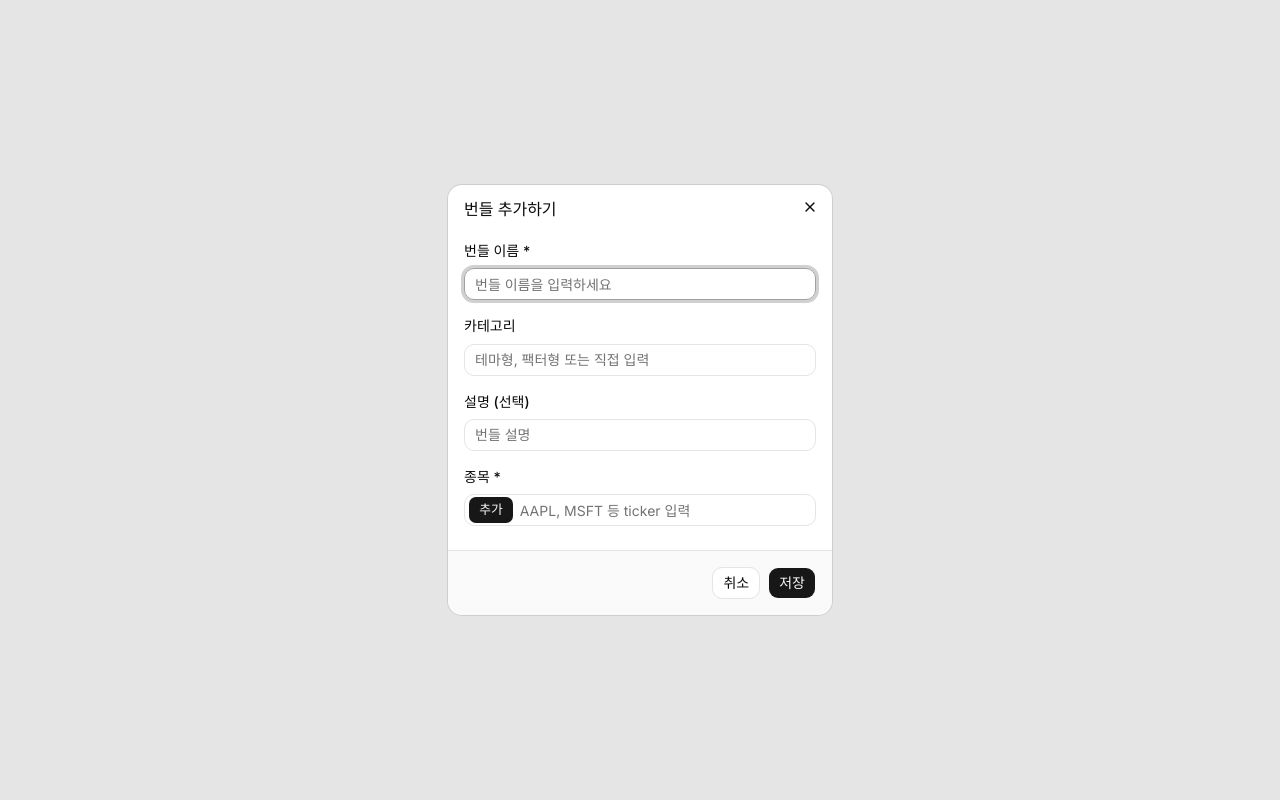
Test: CreateBundleDialog — 유효성 검사 › 중복 ticker 추가 시 안내 메시지가 표시되고 목록이 변경되지 않는다
The image size is (1280, 800).
Type "NVDA" into the field with placeholder "AAPL, MSFT 등 ticker 입력" at (664, 510), box [514, 494, 815, 526]
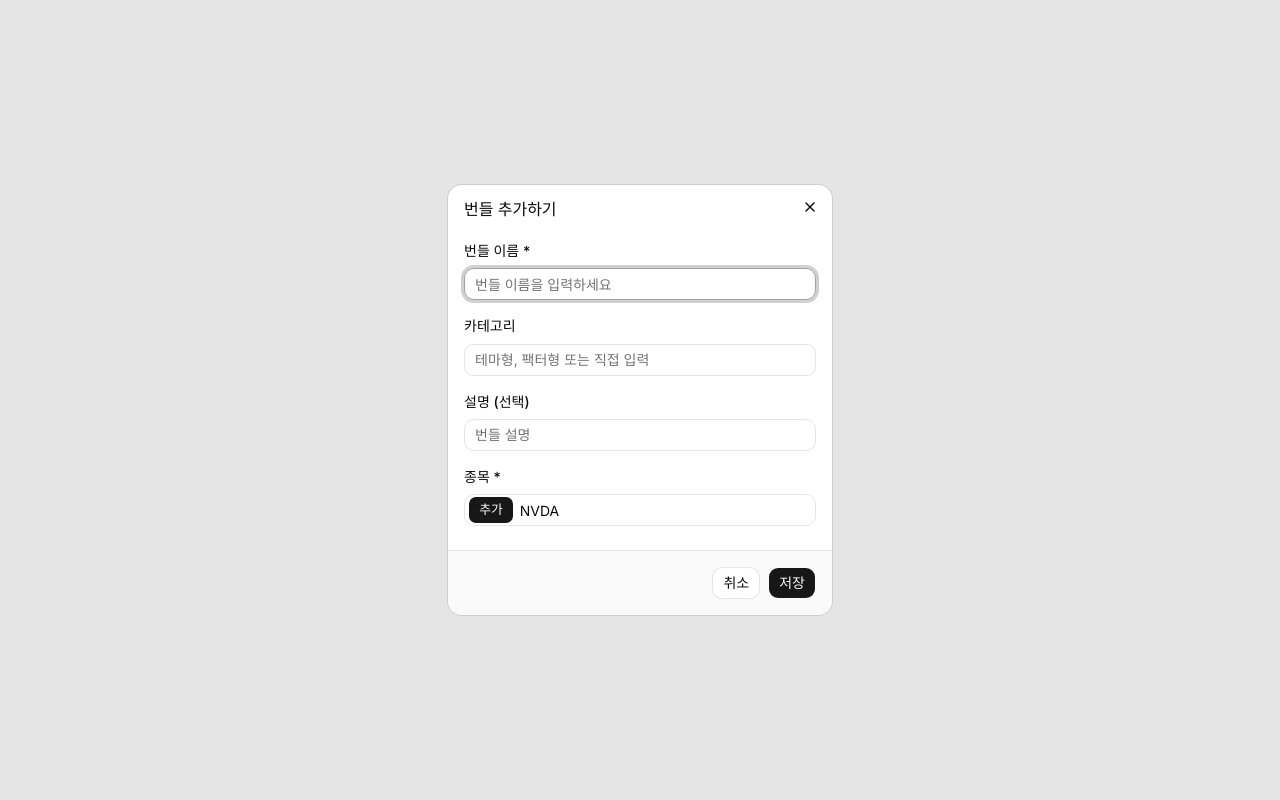
Click the button "추가" at (491, 510), box [468, 496, 514, 524]
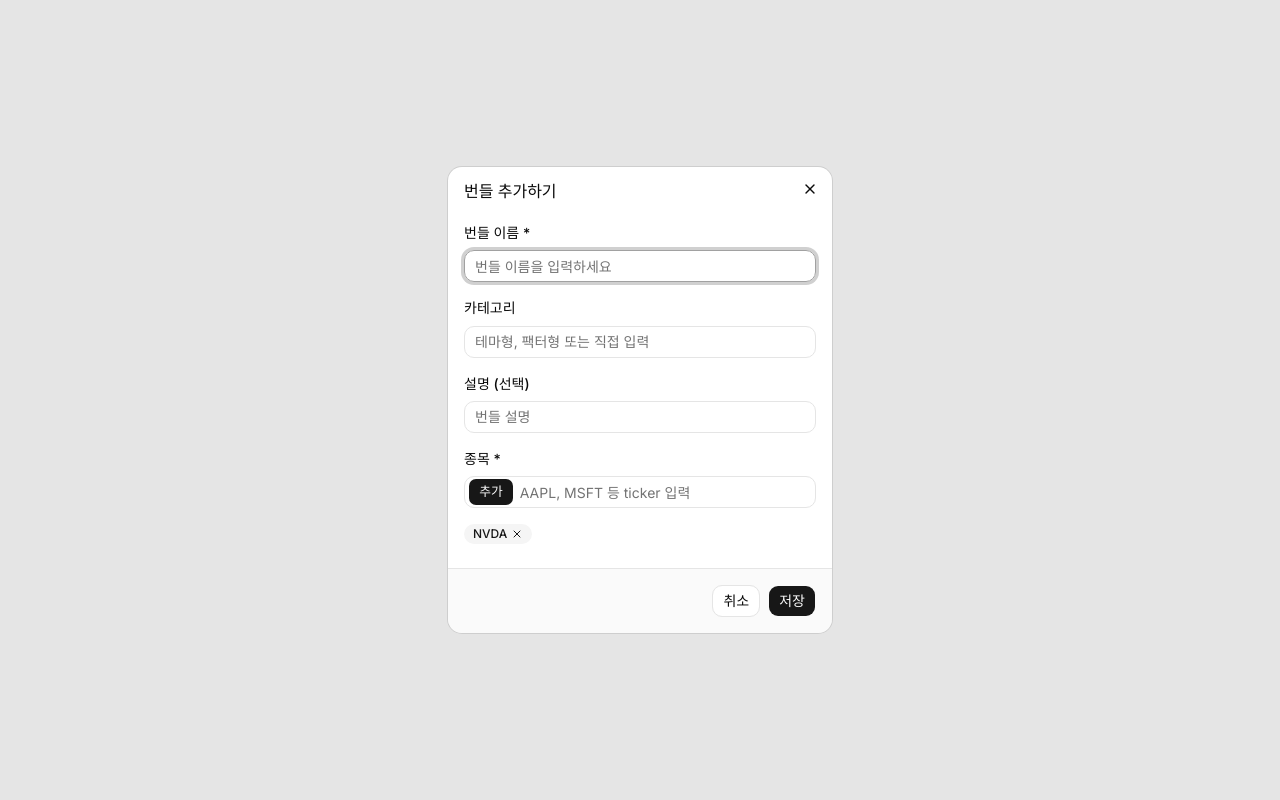
Type "NVDA" into the field with placeholder "AAPL, MSFT 등 ticker 입력" at (664, 492), box [514, 476, 815, 508]
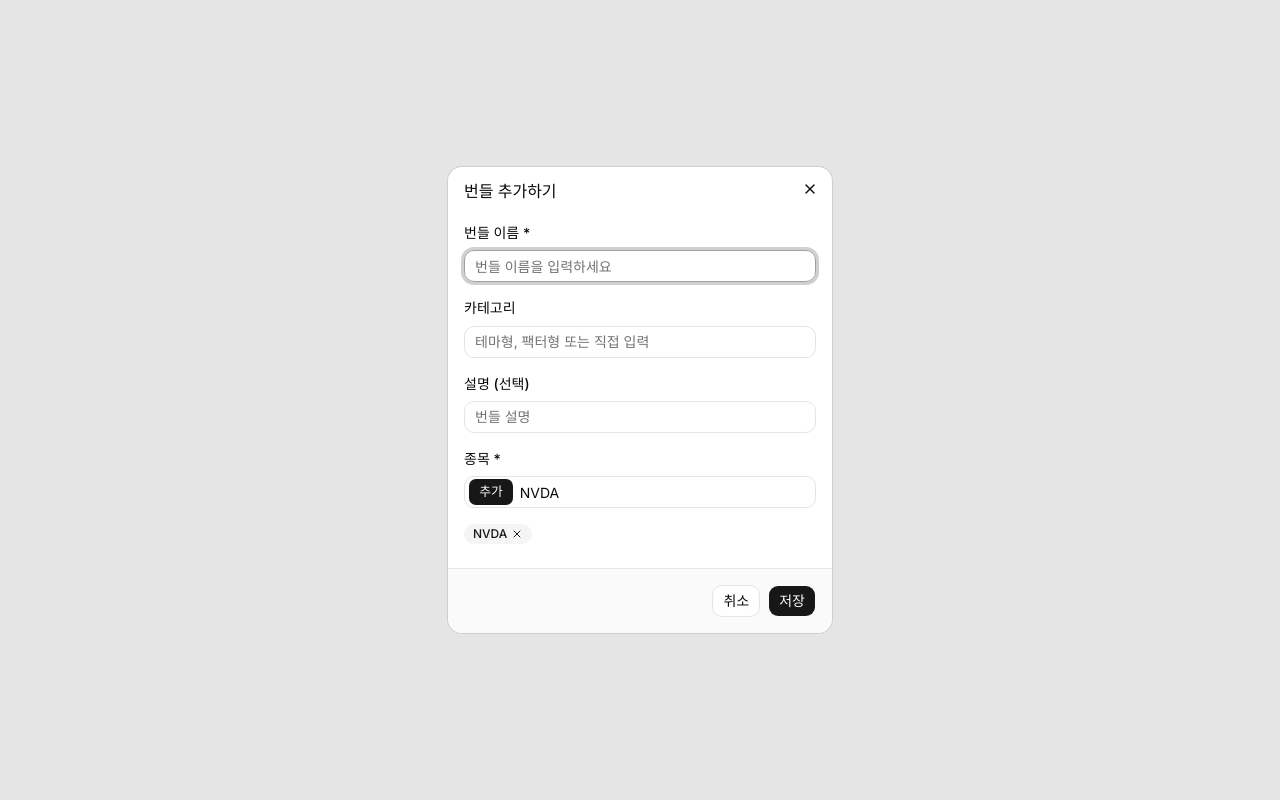
Click the button "추가" at (491, 492), box [468, 478, 514, 506]
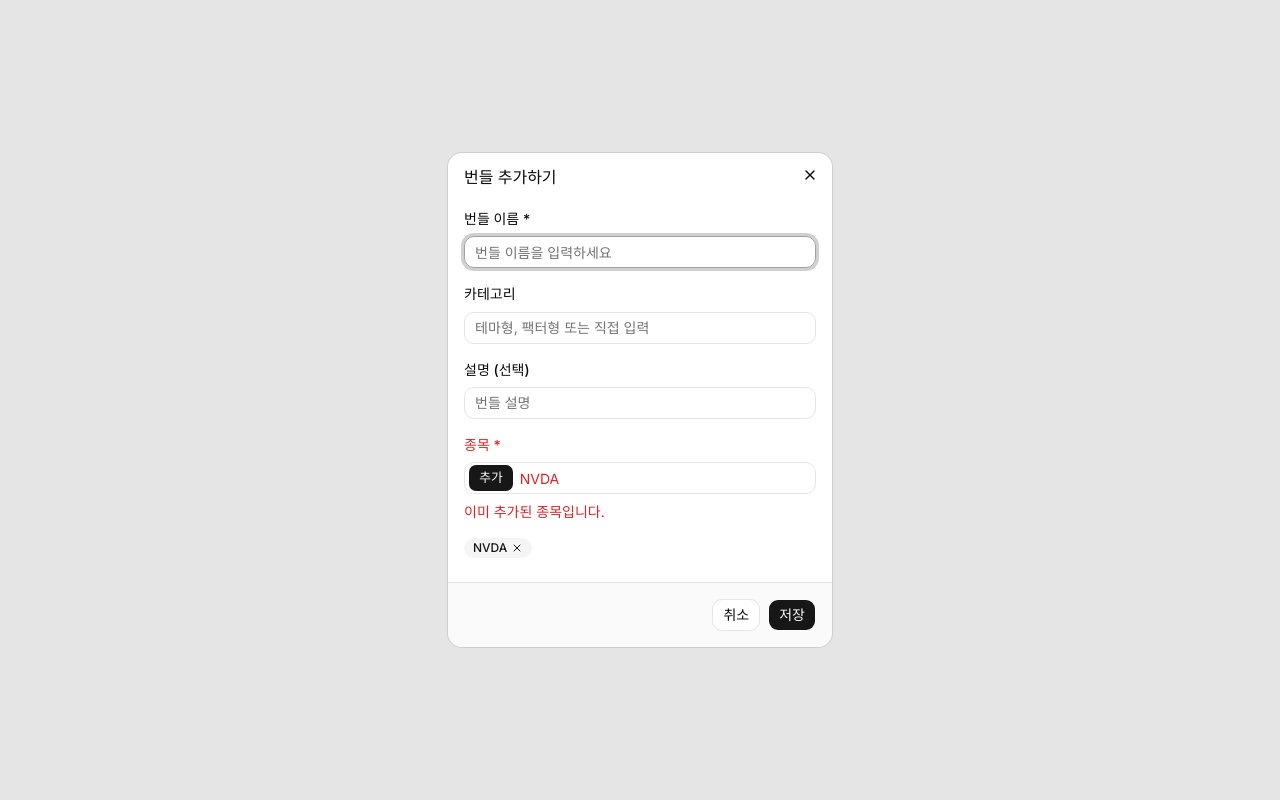
Check: the text "NVDA" is shown once, box [464, 538, 532, 558]
Check: the text "이미 추가된 종목입니다." is shown, box [464, 503, 605, 520]
